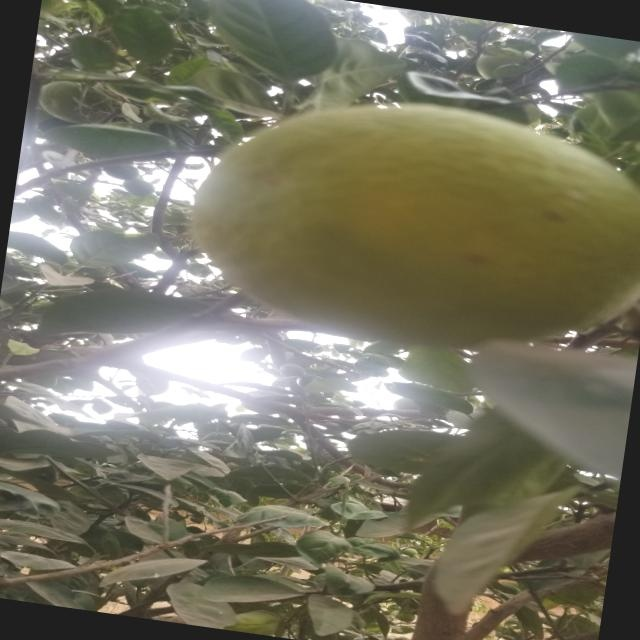agrume: (168, 67, 640, 385)
